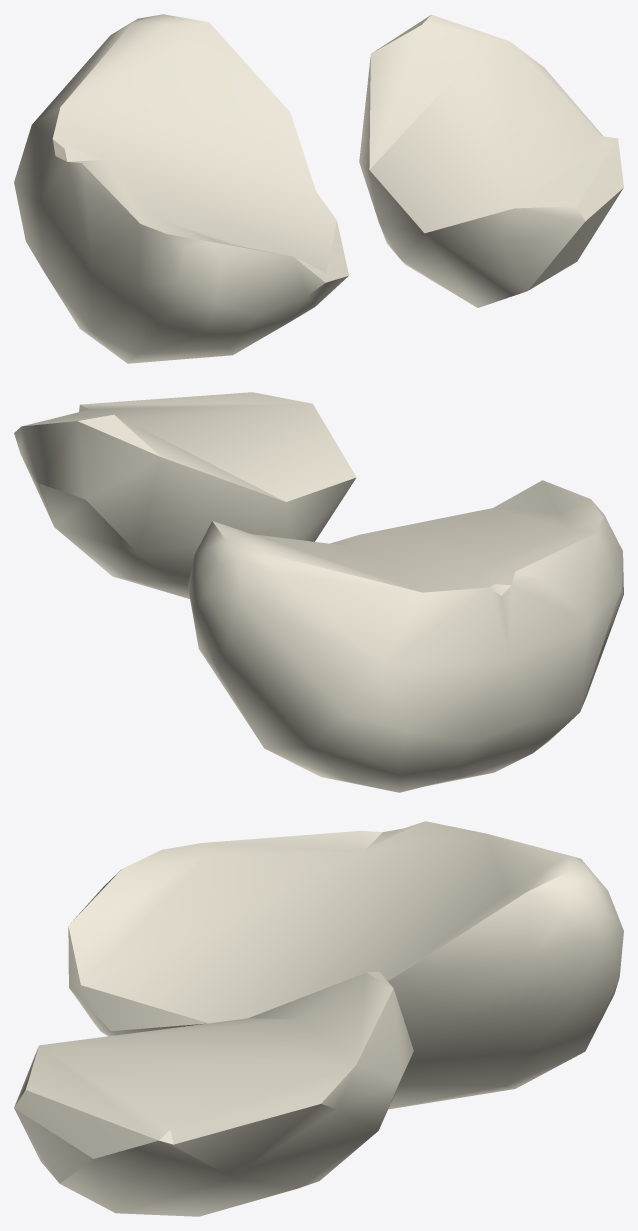
The model's file is fma45097_cx80.glb.
The picture shows the model from 3 angles, top to bottom: view 1: azimuth 30°, elevation 25°; view 2: azimuth 150°, elevation 25°; view 3: azimuth 270°, elevation 25°; orthographic projection. The views are drawn at different scales.
Parts seen in each view (by area): view 1: FMA45097_CX80; view 2: FMA45097_CX80; view 3: FMA45097_CX80.
Boxes of the visible parts, x1,y1,x2,y2 form: FMA45097_CX80: (14,14,623,363); FMA45097_CX80: (14,392,623,792); FMA45097_CX80: (14,821,623,1216).
Size of the model in its own units: 0.0159 by 0.00758 by 0.014.
